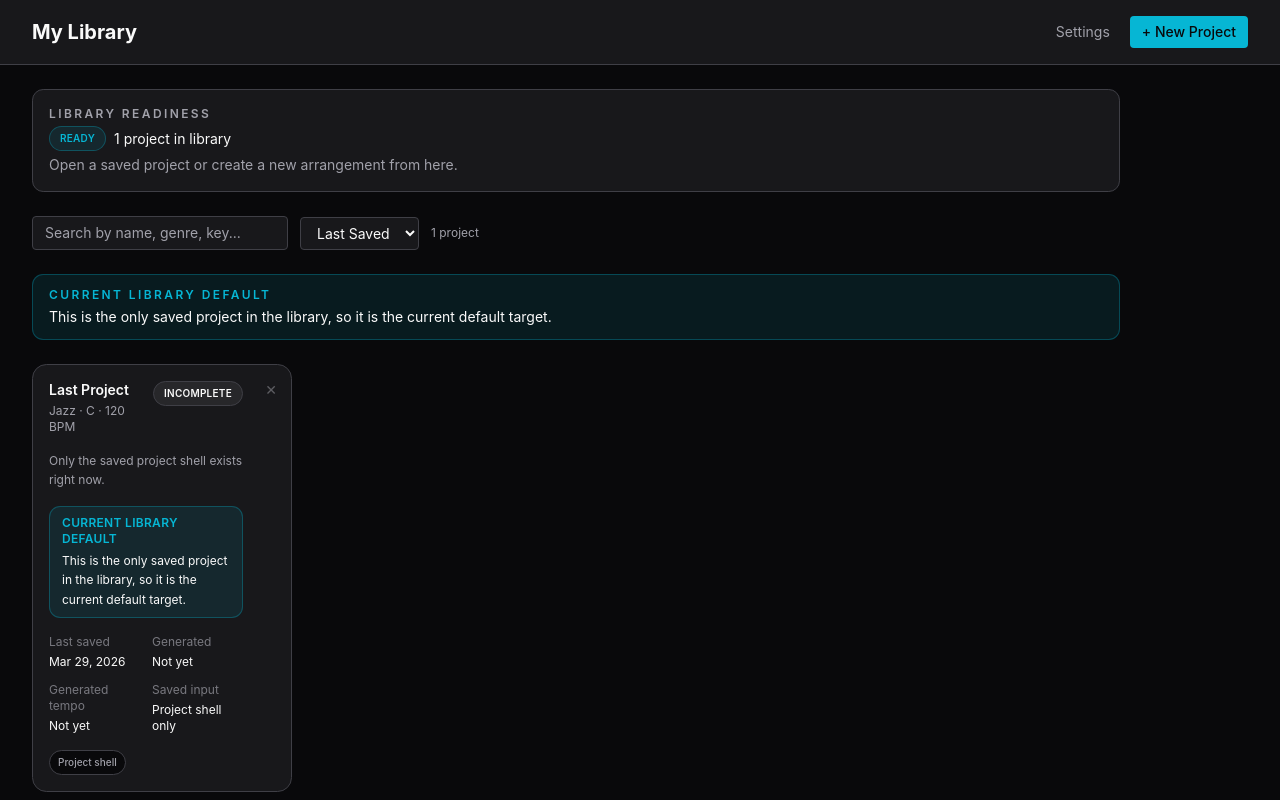
Test case: LibraryPage › shows the empty state after deleting the final project in the library
Click the button named "Delete Last Project" at (271, 390), box top-left (263, 377), bottom-right (279, 402)
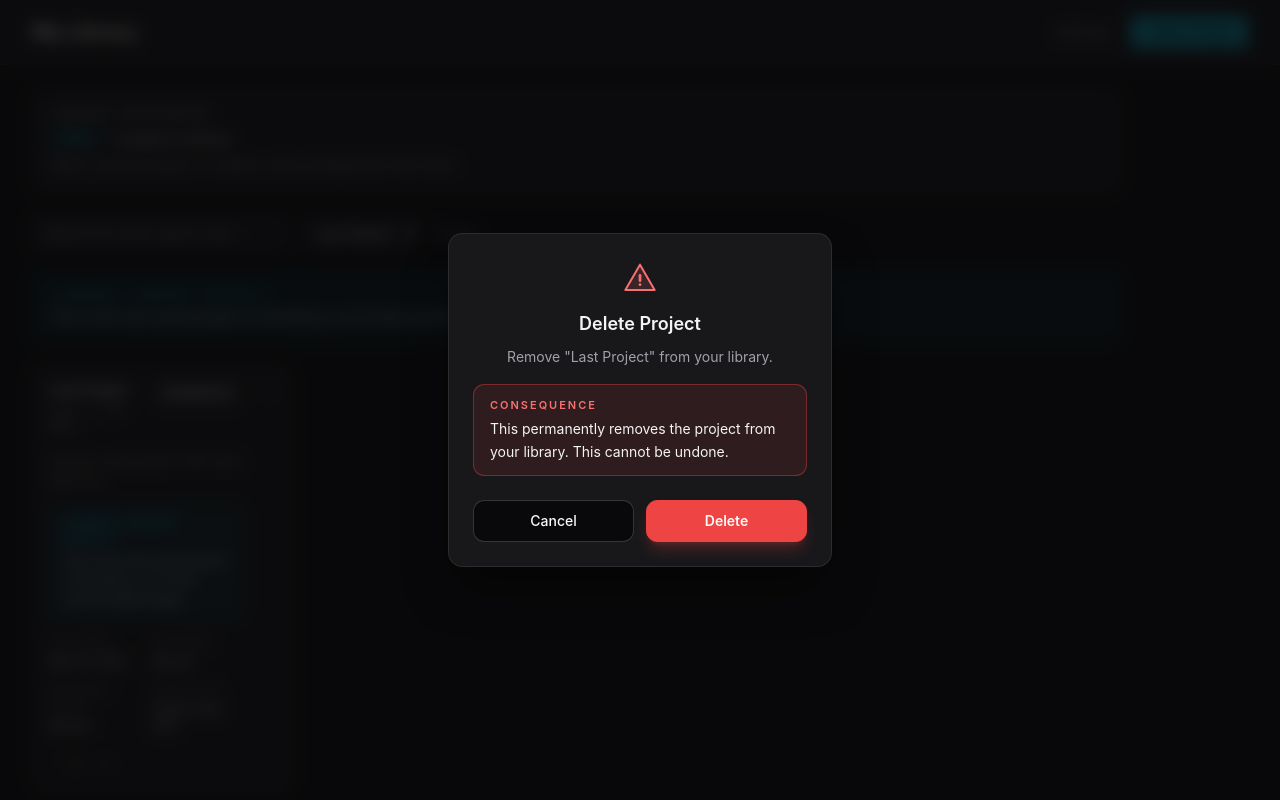
Check: the button "Delete" is shown
Click the button "Delete" at (726, 521), box top-left (646, 500), bottom-right (807, 542)
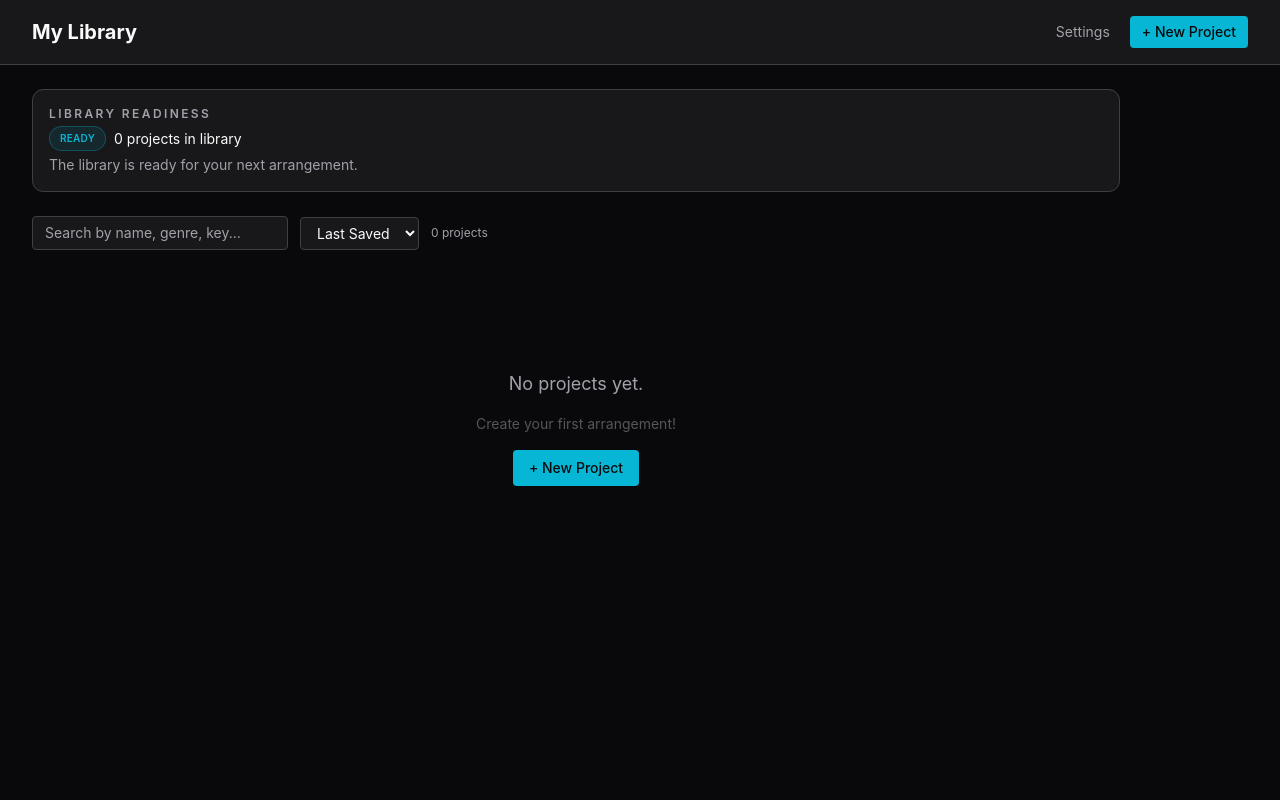
Check: the text "No projects yet." is shown, box top-left (509, 370), bottom-right (643, 398)
